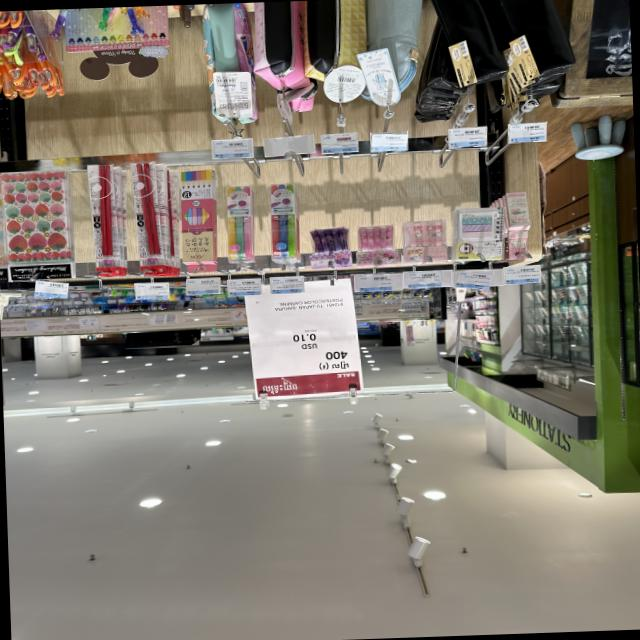194: (289, 329, 324, 346)
748: (317, 347, 358, 363)
Yolov11_80vkh: (256, 378, 302, 395), (331, 361, 363, 375)
